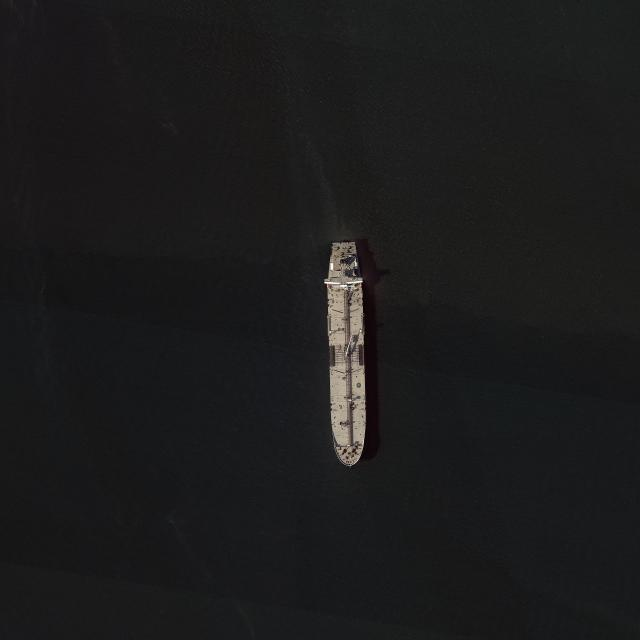ship: (322, 240, 371, 470)
